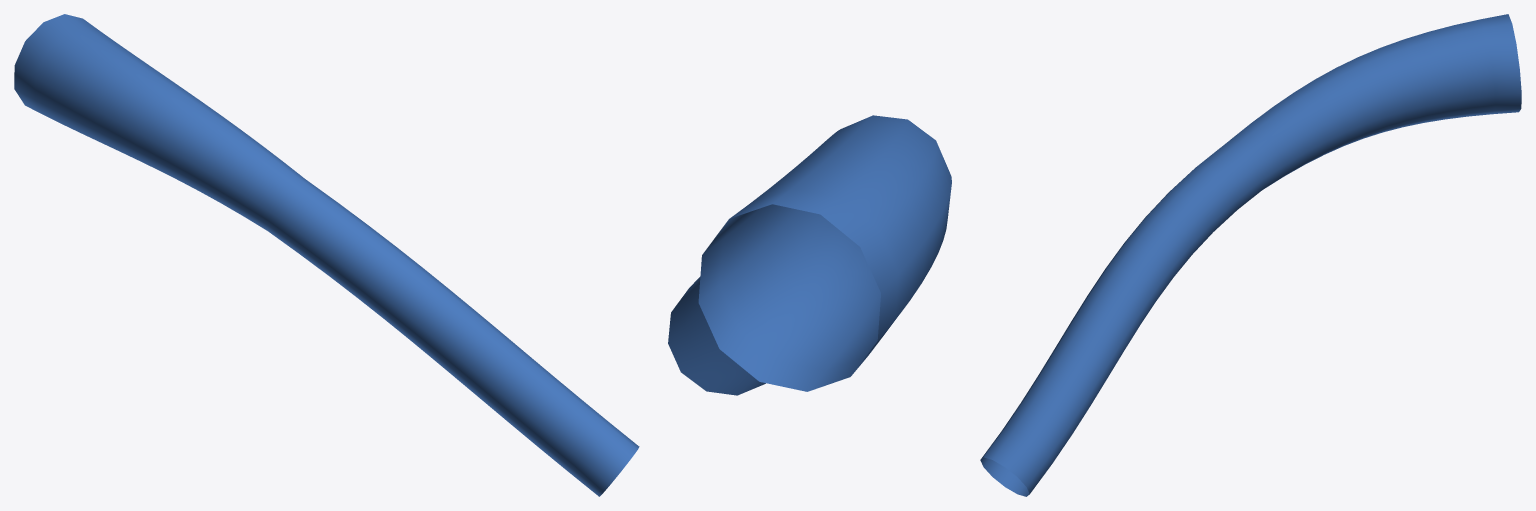
The picture shows the model from 3 angles, left to right: view 1: azimuth 30°, elevation 25°; view 2: azimuth 150°, elevation 25°; view 3: azimuth 270°, elevation 25°; orthographic projection. The views are drawn at different scales.
Visible parts, largest first — view 1: 右侧下颌后静脉后支; view 2: 右侧下颌后静脉后支; view 3: 右侧下颌后静脉后支.
Boxes of the visible parts, left/top/right/bottom form: 右侧下颌后静脉后支: left=14, top=14, right=639, bottom=496; 右侧下颌后静脉后支: left=668, top=115, right=951, bottom=395; 右侧下颌后静脉后支: left=980, top=14, right=1521, bottom=496.
Bounding box in the file's own units: 0.0155 × 0.0145 × 0.0208.
